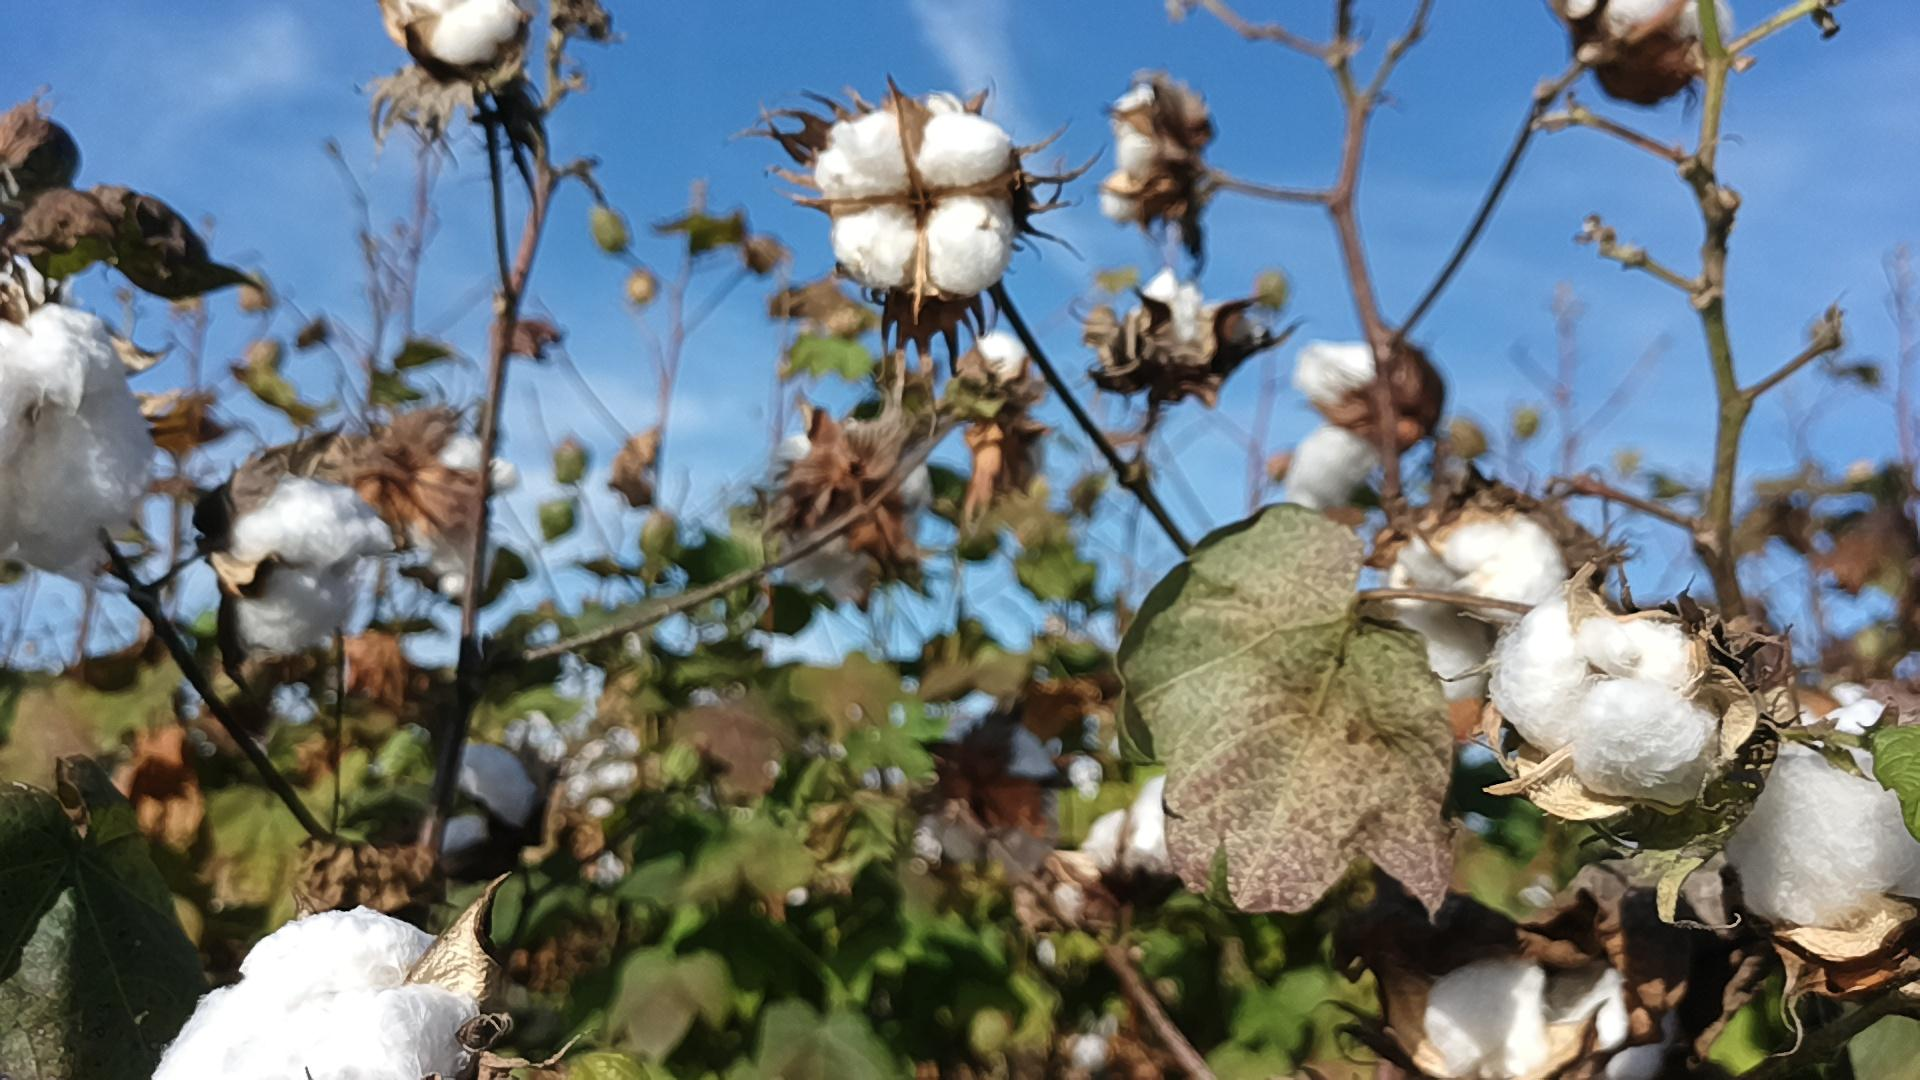cotton_ready: (152, 906, 477, 1080), (1490, 603, 1718, 811), (1731, 703, 1920, 931), (0, 306, 156, 574), (816, 111, 1023, 291), (1387, 510, 1573, 705), (229, 476, 398, 653), (1424, 963, 1673, 1080), (783, 435, 935, 595), (411, 435, 521, 591), (1565, 0, 1738, 88), (438, 741, 541, 858), (1101, 88, 1188, 218), (1084, 775, 1178, 881), (1126, 270, 1222, 369), (1282, 426, 1381, 516), (410, 0, 527, 73), (1298, 345, 1418, 413), (977, 334, 1029, 385)
